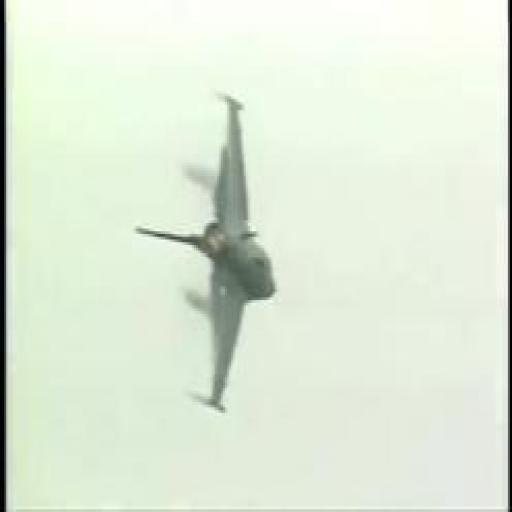aircraft: (134, 91, 279, 410)
